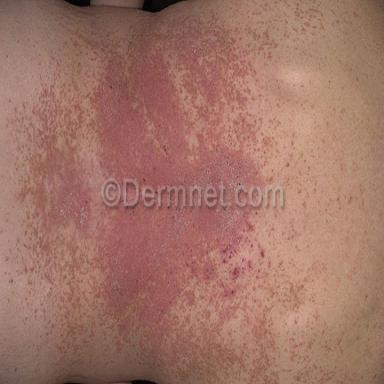Darier_s-Disease: (10, 9, 266, 370)
